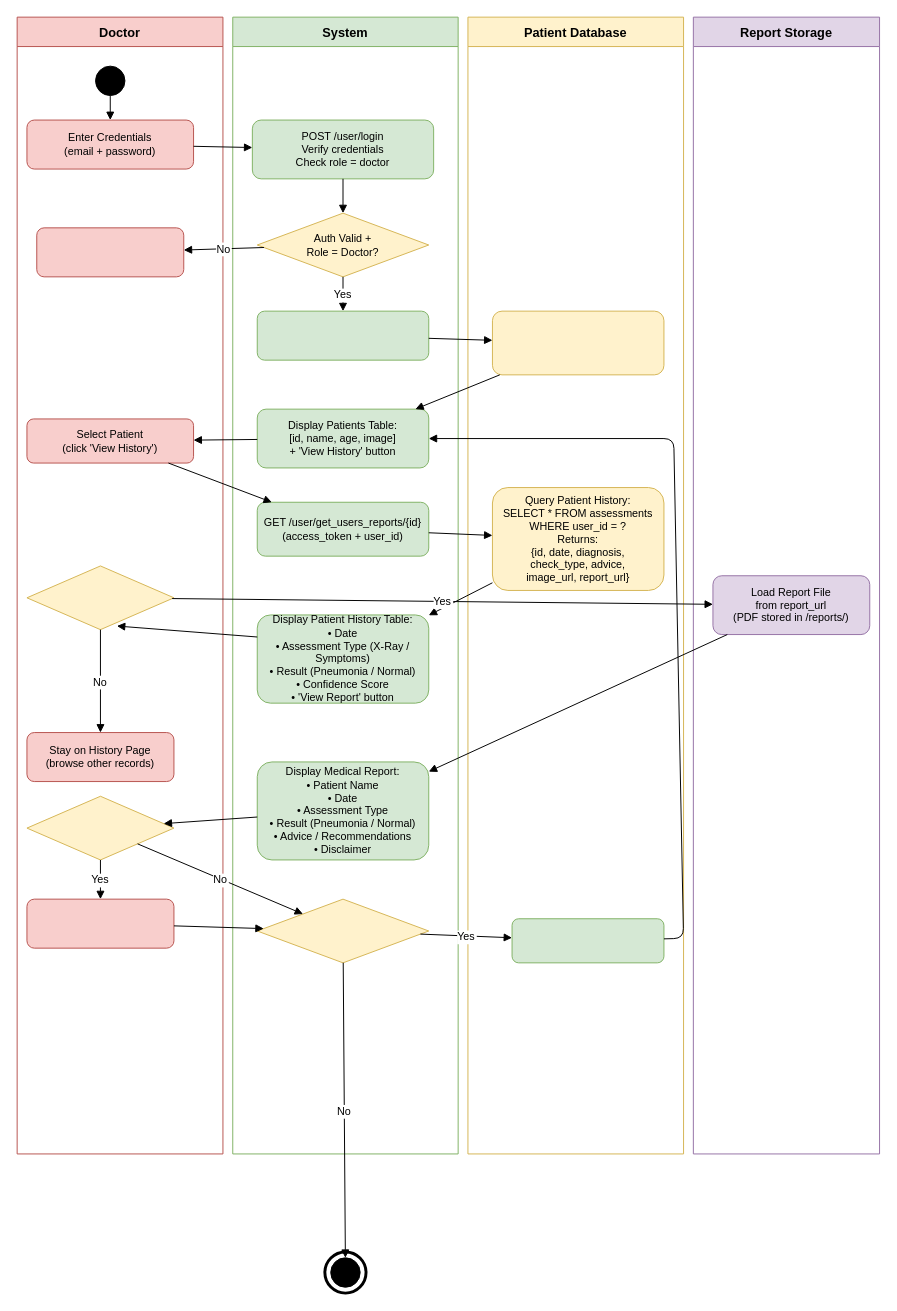
Image size: 897x1311. Some labels were removed from this diagram. The shapes that lost their labels are listed below. From the top down, each one's centre as x and y in pixels, then its label:
At (110,252): "Return Error: Invalid credentials".
At (342,335): "Redirect to Doctor Dashboard (return access_token)".
At (577,342): "GET /user/get_users_names (with access_token) Query: All patients (limit data)".
At (100,597): "Click View Report?".
At (100,827): "Download Report PDF?".
At (100,923): "Download Report PDF (report_url link)".
At (342,930): "Review Another Patient?".
At (587,940): "Back to Patients List".
